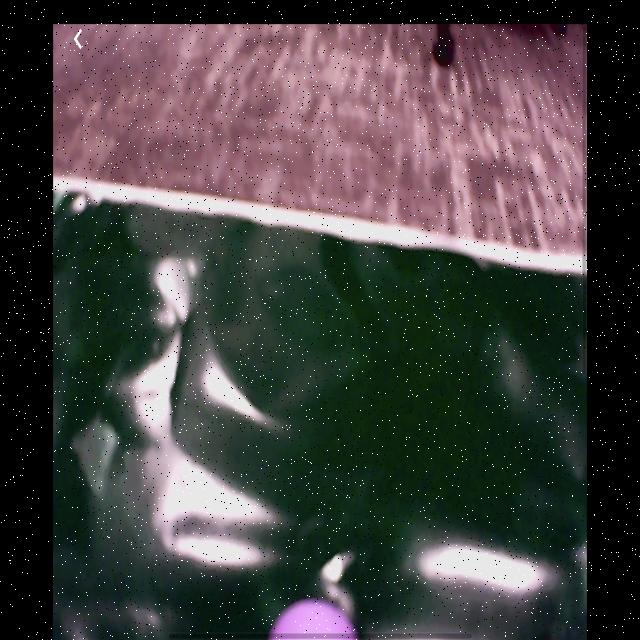ball: (269, 599, 360, 639)
